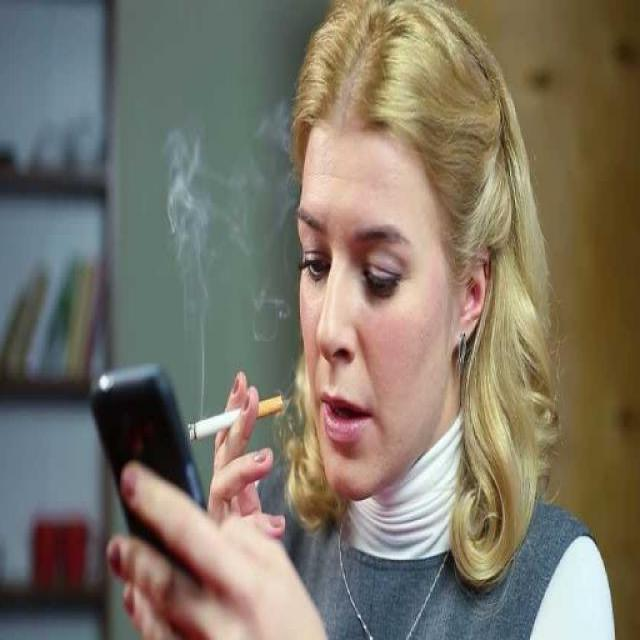phone: (86, 360, 213, 556)
